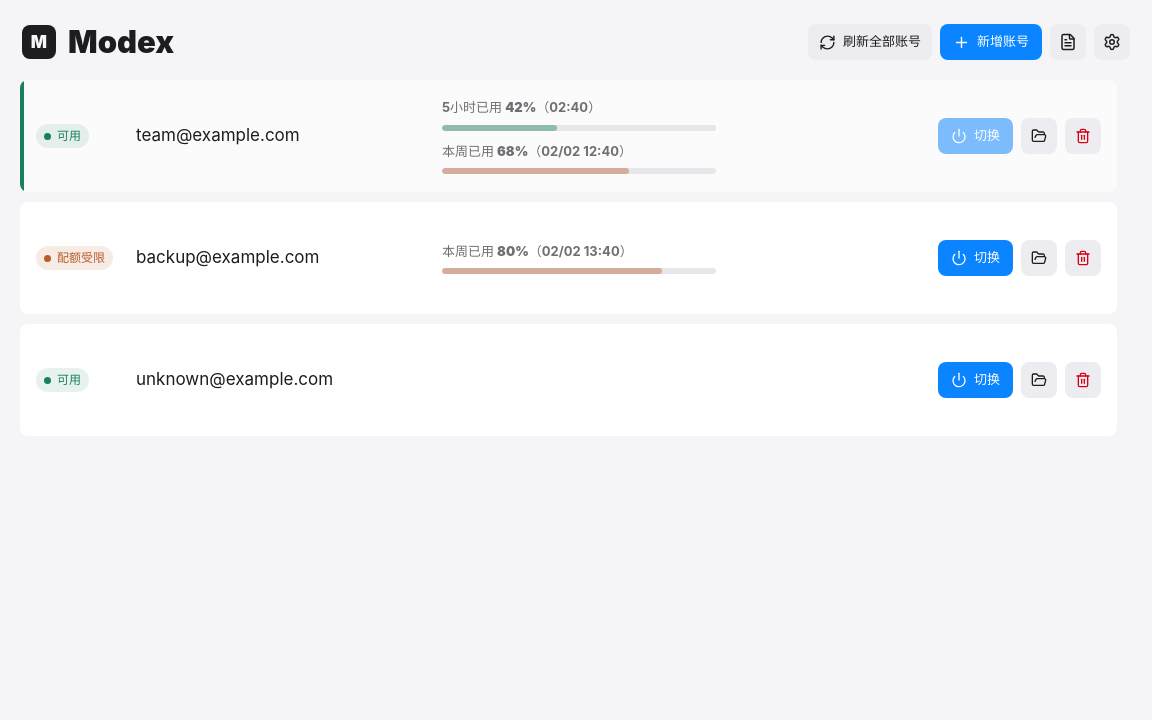
Test case: App › shows switch loading before invoking the backend switch
The width and height of the screenshot is (1152, 720).
What coordinates should you click on to do the following:
click the button with aria-label "切换到 backup@example.com"
I would click on:
 (976, 258)
Its box is [938, 240, 1013, 276].
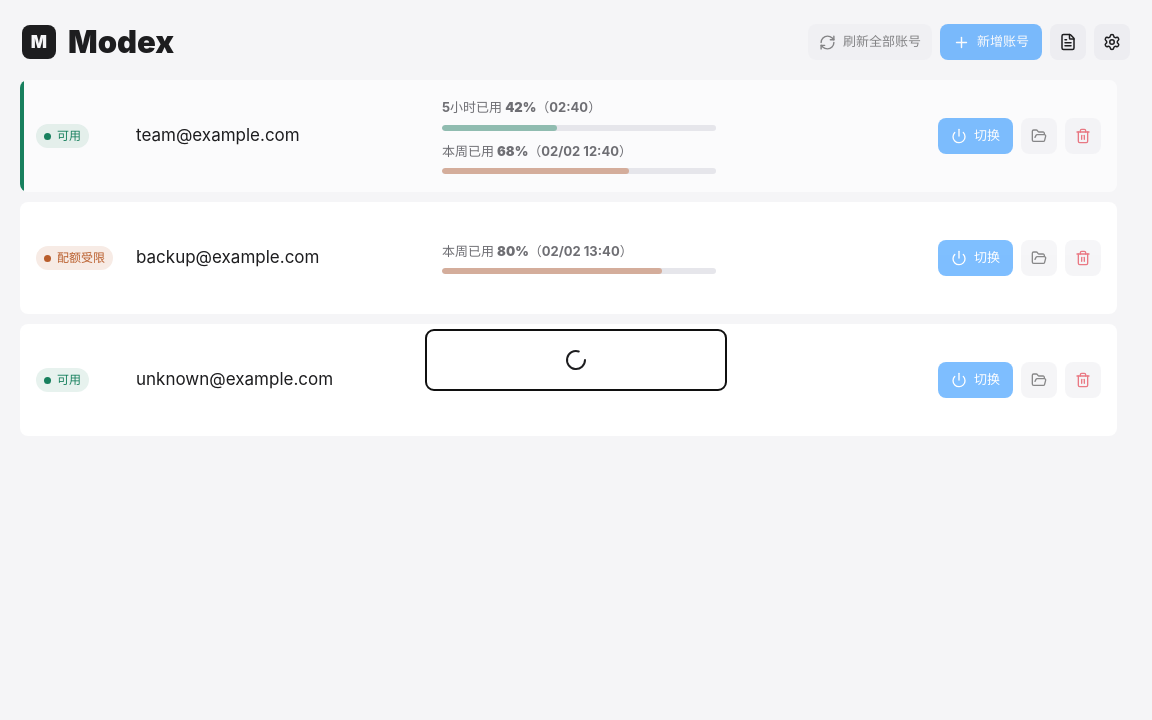
Expected: the dialog named "处理中" is shown, [426, 330, 726, 390]
